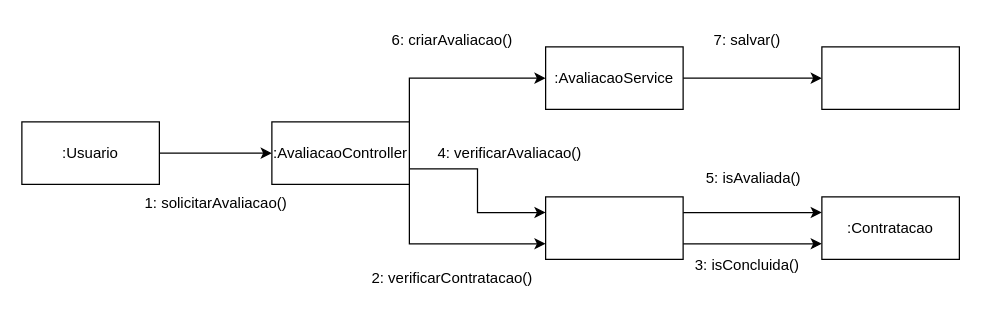
The diagram is 981 pixels wide and 318 high, and some of its shapes have lost their labels. The box of each missing label's shape, as (x1, y1, x2, y2) in pixels:
:Avaliacao: (821, 46, 959, 109)
:ContratacaoService: (544, 196, 683, 259)
